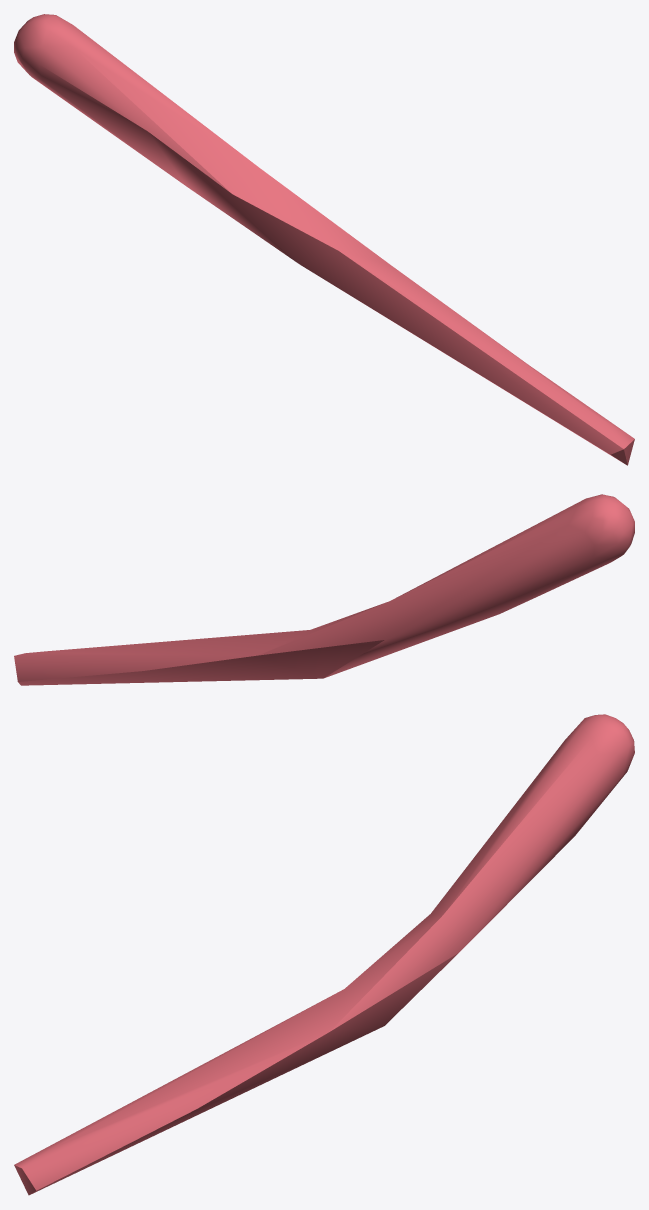
The model's file is fma8678_fj2957.glb.
3 renders of one model, top to bottom at view 1: azimuth 30°, elevation 25°; view 2: azimuth 210°, elevation 25°; view 3: azimuth 270°, elevation 25°, orthographic. The views are drawn at different scales.
Parts seen in each view (by area): view 1: FMA8678_FJ2957; view 2: FMA8678_FJ2957; view 3: FMA8678_FJ2957.
Part boxes in pixels (x1,y1,x2,y2): FMA8678_FJ2957: (14,14,634,465); FMA8678_FJ2957: (14,494,634,685); FMA8678_FJ2957: (14,714,634,1195).
Bounding box in the file's own units: 0.0166 × 0.0149 × 0.0257.
